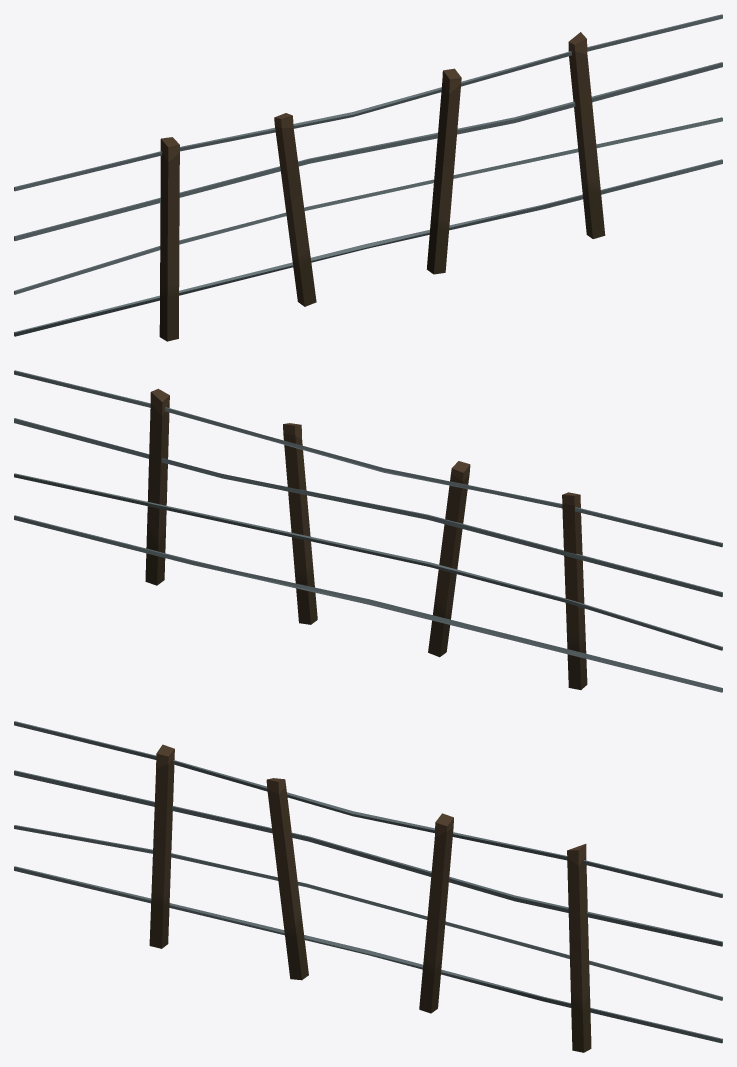
Rendered from SM_Bld_Fence_01.glb.
3 views of the same model, one above another, from view 1: azimuth 30°, elevation 25°; view 2: azimuth 150°, elevation 25°; view 3: azimuth 330°, elevation 25° (orthographic).
Parts seen in each view (by area): view 1: SM_Bld_Fence_01; view 2: SM_Bld_Fence_01; view 3: SM_Bld_Fence_01.
Boxes of the visible parts, box(x1,y1,x2,y2) form: SM_Bld_Fence_01: box(14, 14, 722, 341); SM_Bld_Fence_01: box(14, 370, 722, 692); SM_Bld_Fence_01: box(14, 721, 722, 1052).
Size of the model in its own units: 500 by 134 by 16.82.
Materials: 1 (1 with a texture image).
